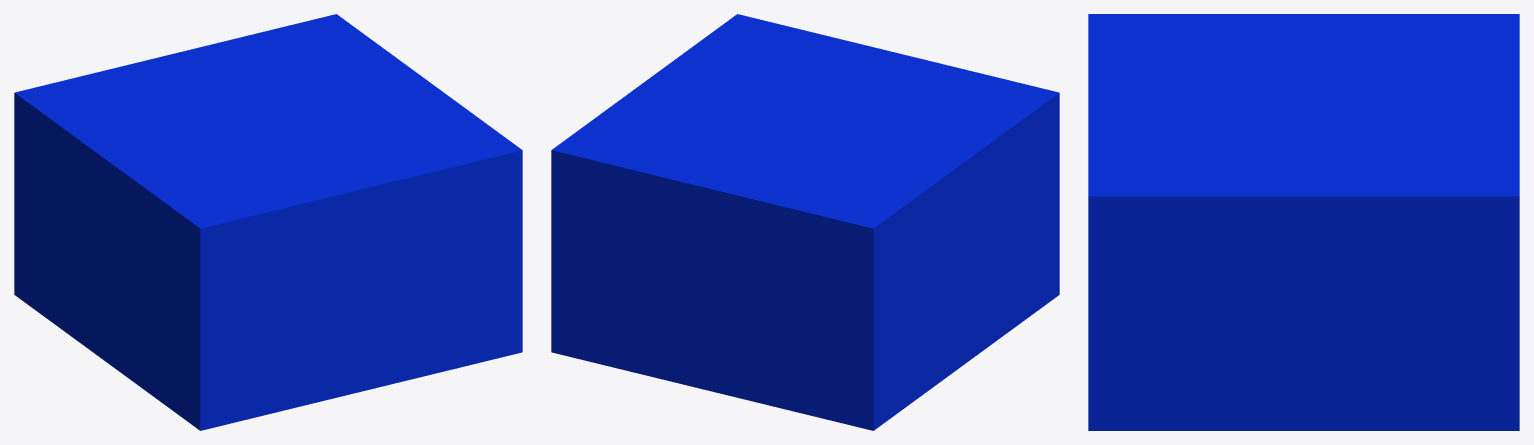
The model's file is concrete_cube_1m_blue.dae.
3 renders of one model, left to right at view 1: azimuth 30°, elevation 25°; view 2: azimuth 150°, elevation 25°; view 3: azimuth 270°, elevation 25°, orthographic. The views are drawn at different scales.
Parts seen in each view (by area): view 1: Cube; view 2: Cube; view 3: Cube.
Part boxes in pixels (left/top/right/bottom): Cube: left=14, top=14, right=522, bottom=430; Cube: left=551, top=14, right=1059, bottom=430; Cube: left=1088, top=14, right=1519, bottom=430.
Bounding box in the file's own units: 1 × 1 × 0.6.
